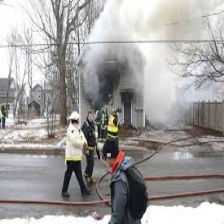smoke: (83, 1, 199, 101)
